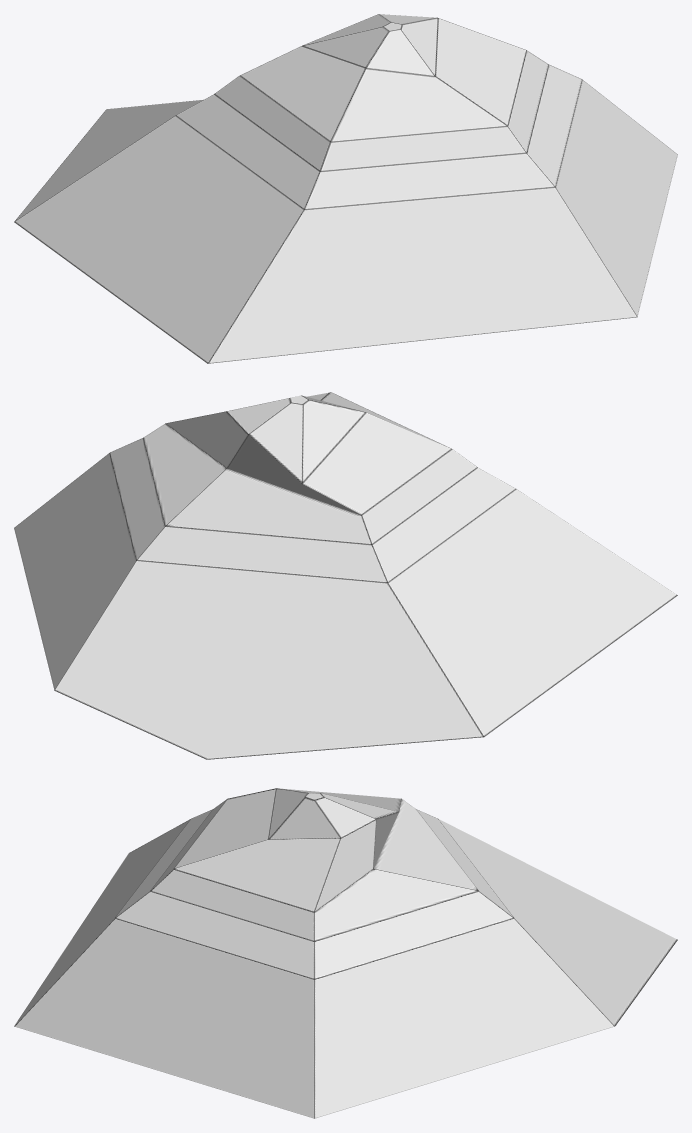
File: colina2.fbx
The picture shows the model from 3 angles, top to bottom: view 1: azimuth 30°, elevation 25°; view 2: azimuth 150°, elevation 25°; view 3: azimuth 270°, elevation 25°; orthographic projection. The views are drawn at different scales.
Parts seen in each view (by area): view 1: Icosphere; view 2: Icosphere; view 3: Icosphere.
Boxes of the visible parts, x1,y1,x2,y2 form: Icosphere: [14, 14, 677, 363]; Icosphere: [14, 392, 677, 759]; Icosphere: [14, 788, 677, 1118].
Size of the model in its own units: 698 by 233 by 738.
Materials: 1 (1 with a texture image).
